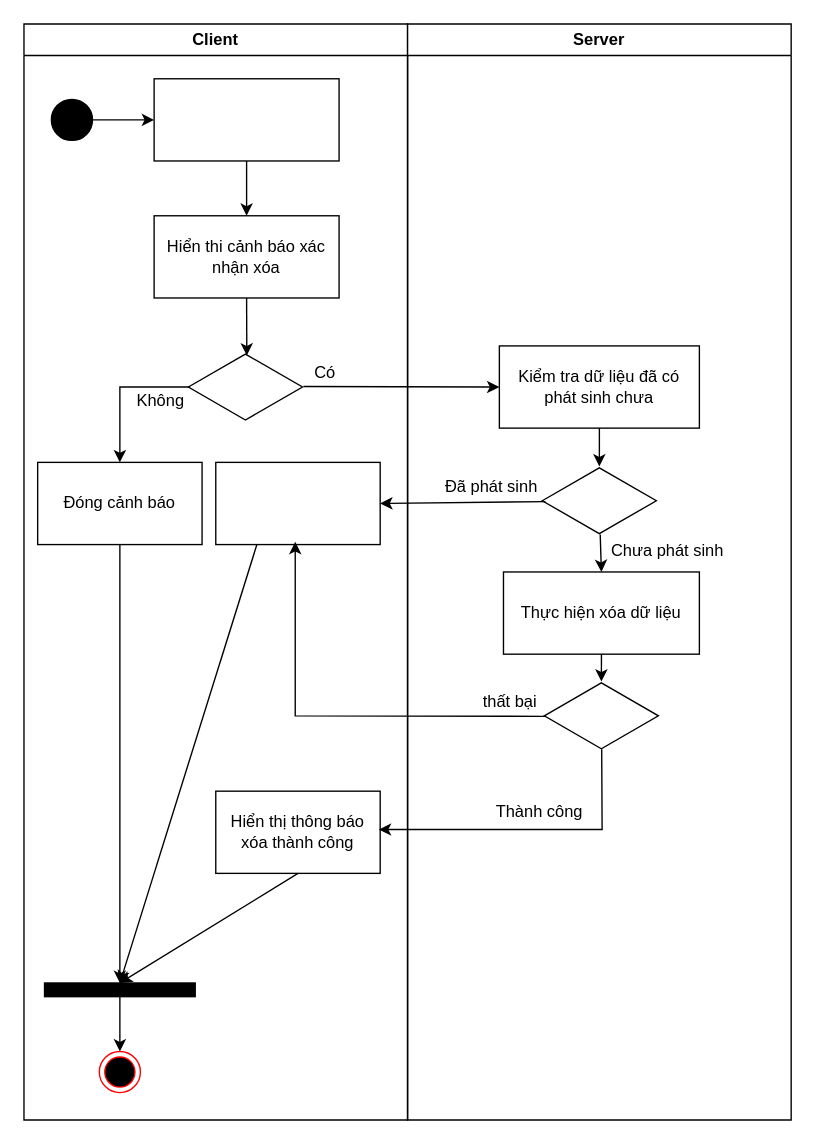
Some shapes in this 815 by 1144 pixel diagram are drawn without their labels. The shapes that lost their labels are listed below. From the top down, each one's centre as x and y in pixels, then its label:
At pixel 246 119: "Chọn chức năng xóa dữ liệu".
At pixel 297 503: "Hiển thị cảnh báo lỗi".
